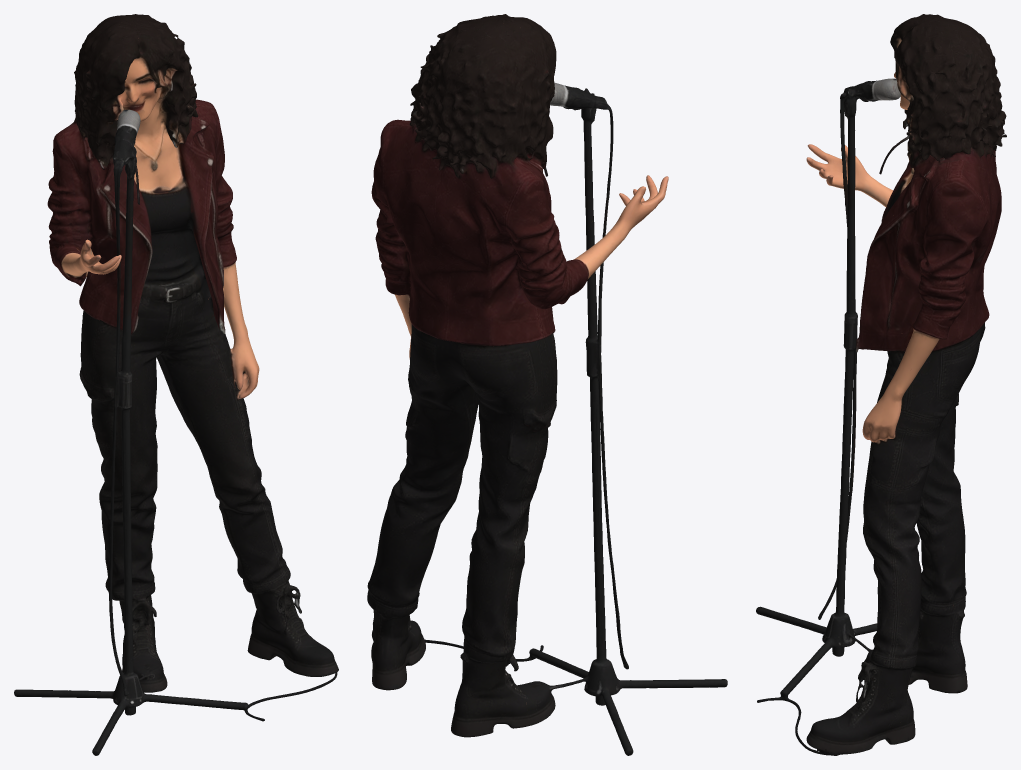
The model's file is musician_pose2.glb.
3 views of the same model, side by side, from view 1: azimuth 30°, elevation 25°; view 2: azimuth 150°, elevation 25°; view 3: azimuth 270°, elevation 25° (orthographic). The views are drawn at different scales.
Bounding box in the file's own units: 0.85 × 1.9 × 0.6554.
1 material, 1 textured.
